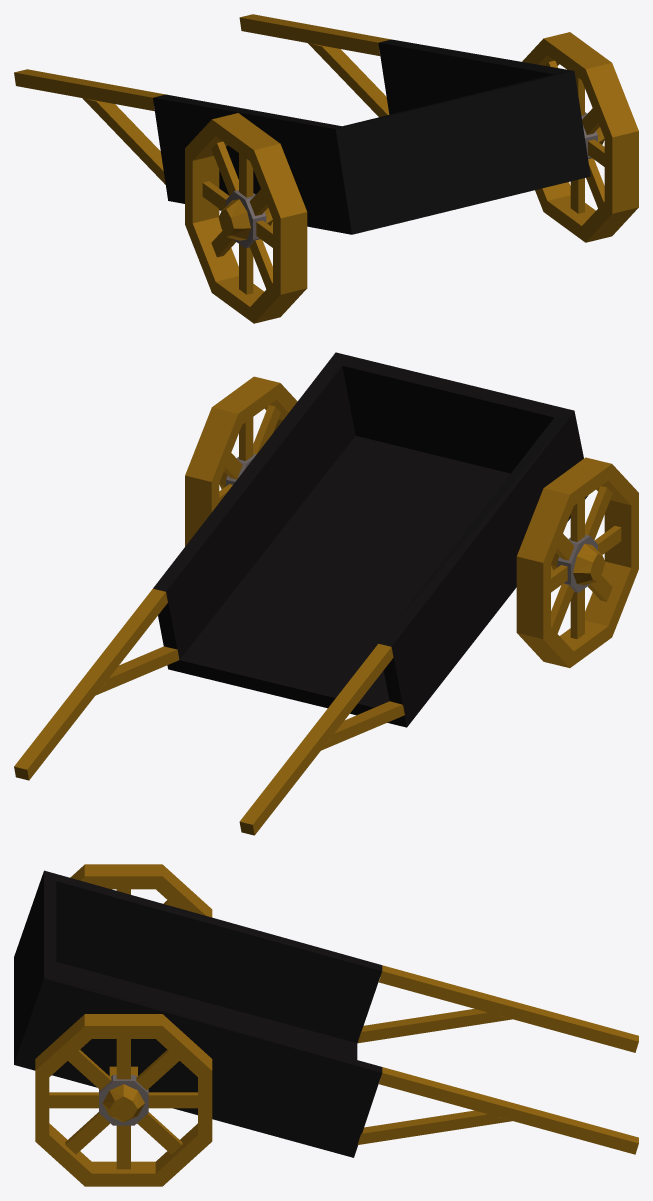
File: obj_travel_cart_2_0.obj
The picture shows the model from 3 angles, top to bottom: view 1: azimuth 30°, elevation 25°; view 2: azimuth 150°, elevation 25°; view 3: azimuth 270°, elevation 25°; orthographic projection. The views are drawn at different scales.
Size of the model in its own units: 1.75 by 0.8828 by 2.76.
